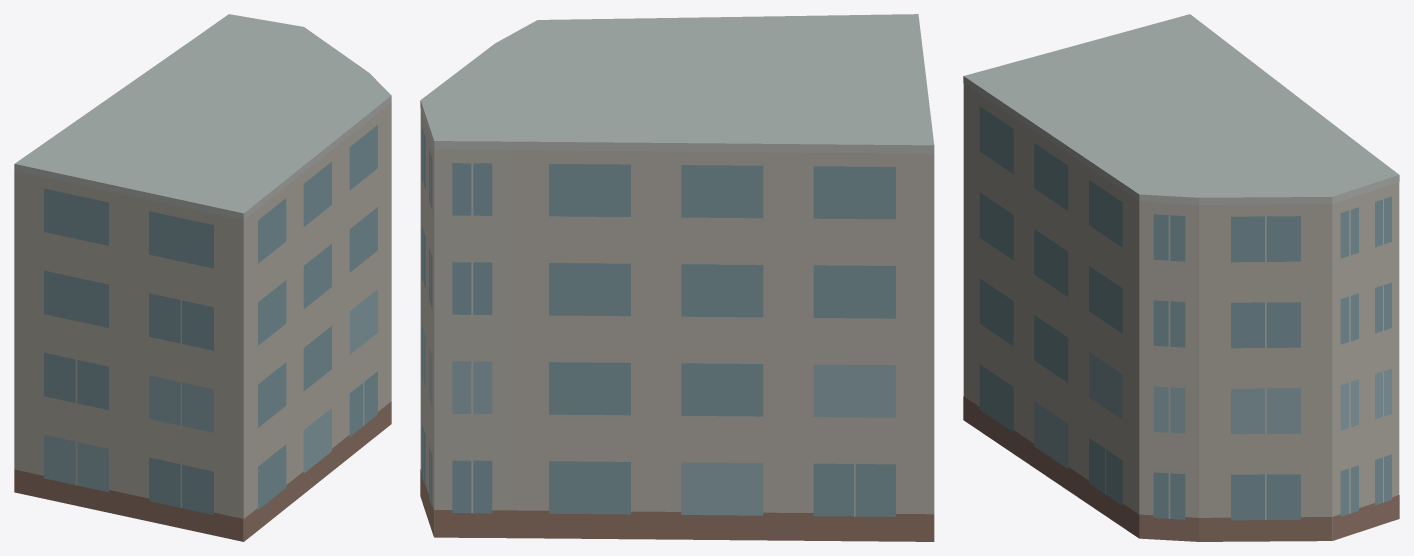
File: survey-upis-33007445.glb
3 views of the same model, side by side, from view 1: azimuth 30°, elevation 25°; view 2: azimuth 150°, elevation 25°; view 3: azimuth 270°, elevation 25° (orthographic). The views are drawn at different scales.
Parts seen in each view (by area): view 1: survey-upis-33007445.tmp; view 2: survey-upis-33007445.tmp; view 3: survey-upis-33007445.tmp.
Boxes of the visible parts, left/top/right/bottom form: survey-upis-33007445.tmp: left=14, top=14, right=391, bottom=541; survey-upis-33007445.tmp: left=420, top=14, right=934, bottom=541; survey-upis-33007445.tmp: left=963, top=14, right=1399, bottom=541.
Size of the model in its own units: 13.29 by 11.6 by 13.33.
